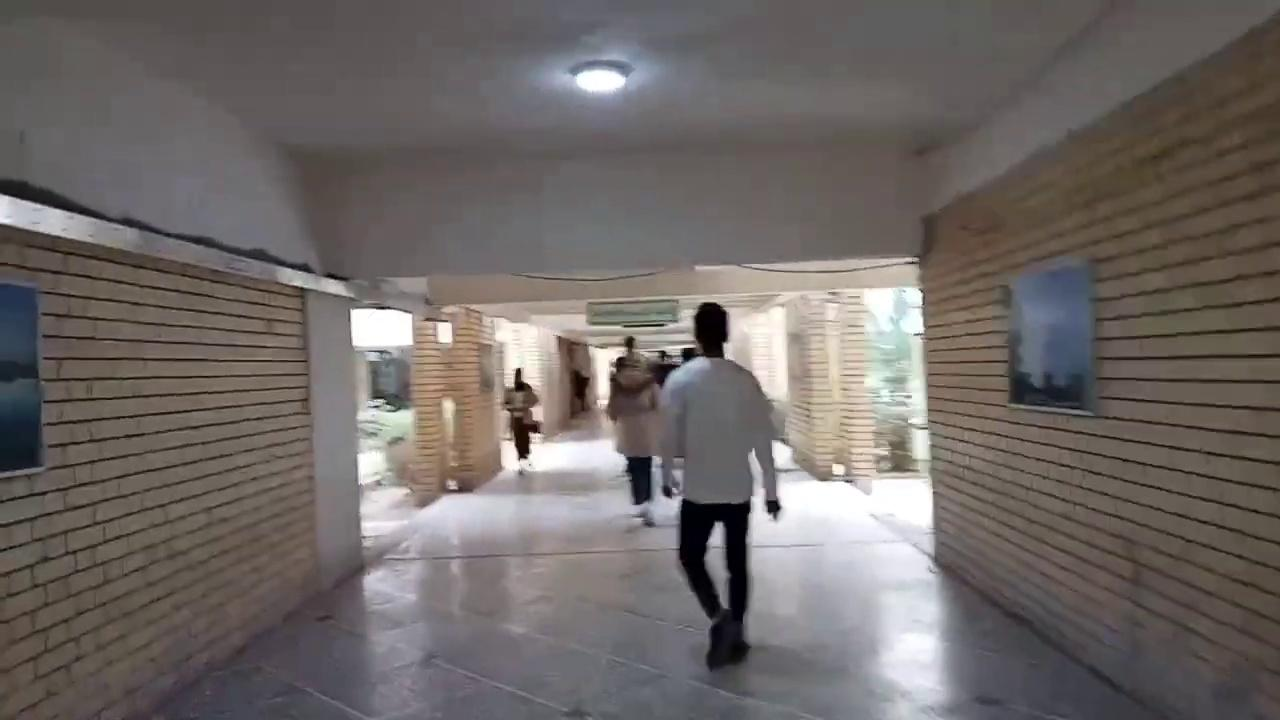person: (656, 301, 781, 670), (606, 343, 661, 527), (503, 367, 538, 463)
tree: (869, 278, 935, 485)
